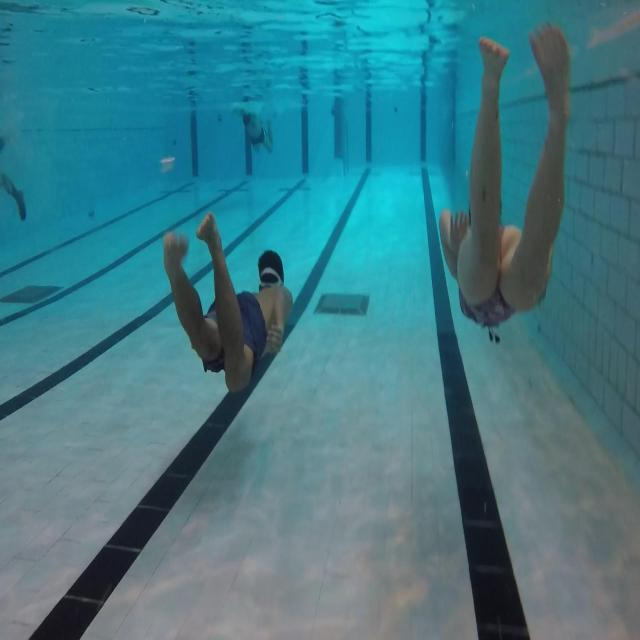human: (438, 19, 572, 335), (162, 210, 293, 394), (240, 107, 273, 154)
